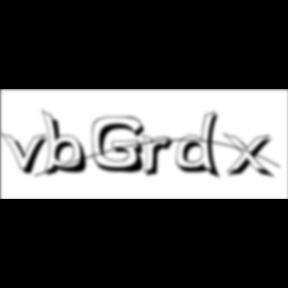G: (92, 116, 152, 176)
b: (42, 109, 94, 179)
d: (176, 110, 226, 182)
r: (142, 134, 180, 180)
v: (0, 131, 54, 177)
x: (224, 132, 278, 181)
